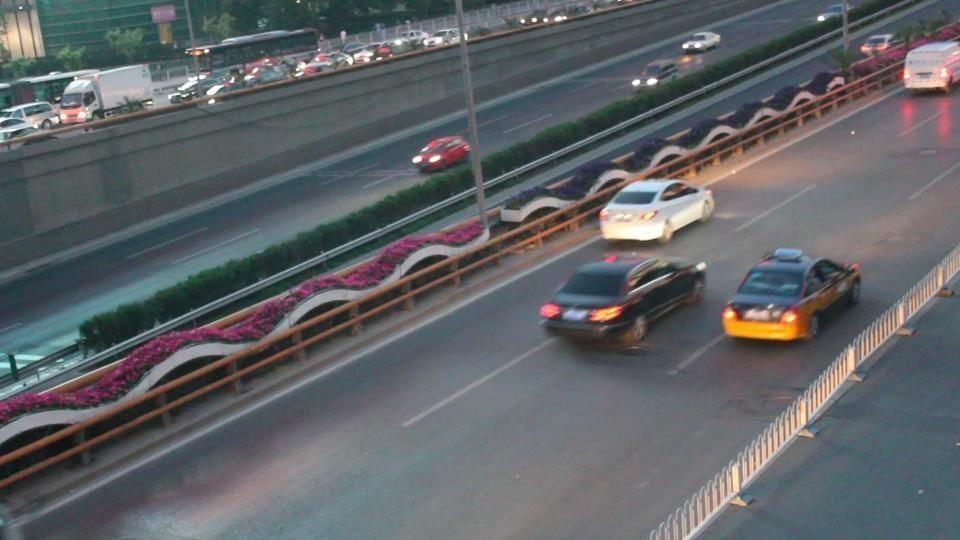car: (538, 253, 707, 347), (720, 248, 862, 342), (598, 177, 716, 246), (900, 40, 960, 93), (413, 136, 471, 173), (168, 74, 226, 104), (1, 102, 59, 132), (629, 59, 682, 90), (296, 52, 353, 77), (350, 42, 393, 66), (681, 30, 722, 53), (1, 118, 37, 142)
